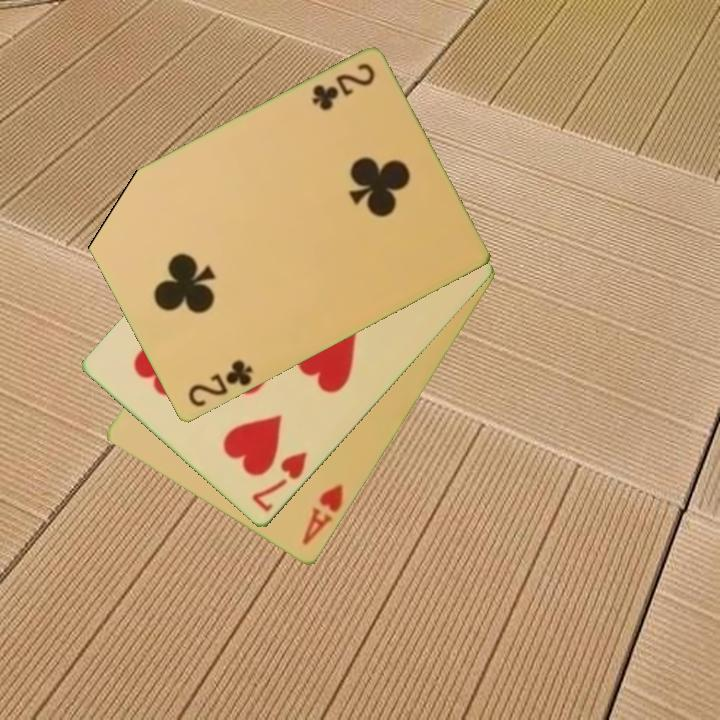2c: (184, 356, 256, 411), (308, 60, 378, 114)
7h: (248, 449, 310, 516)
Ah: (298, 481, 347, 548)
